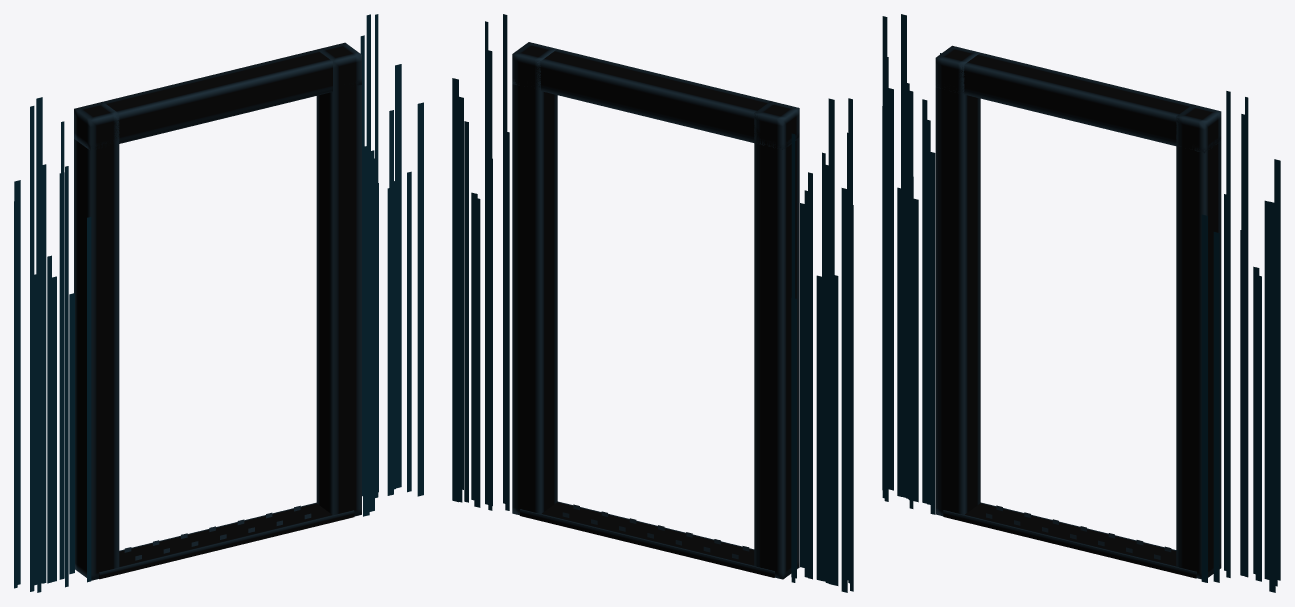
File: exit_frame.glb
The picture shows the model from 3 angles, left to right: view 1: azimuth 30°, elevation 25°; view 2: azimuth 150°, elevation 25°; view 3: azimuth 330°, elevation 25°; orthographic projection.
Visible parts, largest first — view 1: exit_post_l, exit_bar_r, exit_bar_l, exit_post_r, exit_bar_top, exit_sill; view 2: exit_post_l, exit_bar_r, exit_bar_l, exit_post_r, exit_bar_top, exit_sill; view 3: exit_post_r, exit_bar_l, exit_post_l, exit_bar_r, exit_bar_top, exit_sill.
Part boxes in pixels (x1=…): exit_post_l: x1=14, y1=97, x2=91, y2=592; exit_bar_r: x1=316, y1=42, x2=361, y2=516; exit_bar_l: x1=74, y1=101, x2=119, y2=580; exit_post_r: x1=360, y1=14, x2=423, y2=516; exit_bar_top: x1=74, y1=49, x2=361, y2=150; exit_sill: x1=99, y1=502, x2=354, y2=579; exit_post_l: x1=791, y1=98, x2=853, y2=592; exit_bar_r: x1=512, y1=42, x2=557, y2=515; exit_bar_l: x1=754, y1=101, x2=799, y2=579; exit_post_r: x1=452, y1=14, x2=509, y2=510; exit_bar_top: x1=512, y1=49, x2=799, y2=149; exit_sill: x1=520, y1=501, x2=774, y2=577; exit_post_r: x1=1201, y1=91, x2=1280, y2=592; exit_bar_l: x1=935, y1=45, x2=980, y2=516; exit_post_l: x1=882, y1=14, x2=941, y2=514; exit_bar_r: x1=1176, y1=104, x2=1221, y2=579; exit_bar_top: x1=935, y1=53, x2=1221, y2=153; exit_sill: x1=943, y1=502, x2=1196, y2=578.
Size of the model in its own units: 1.96 by 2.28 by 0.1789.
